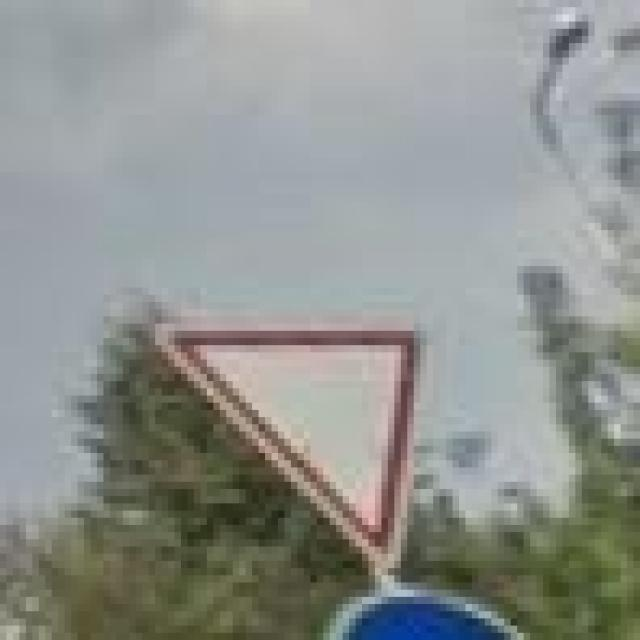Ustap pierwszenstwa: (155, 316, 427, 576)
